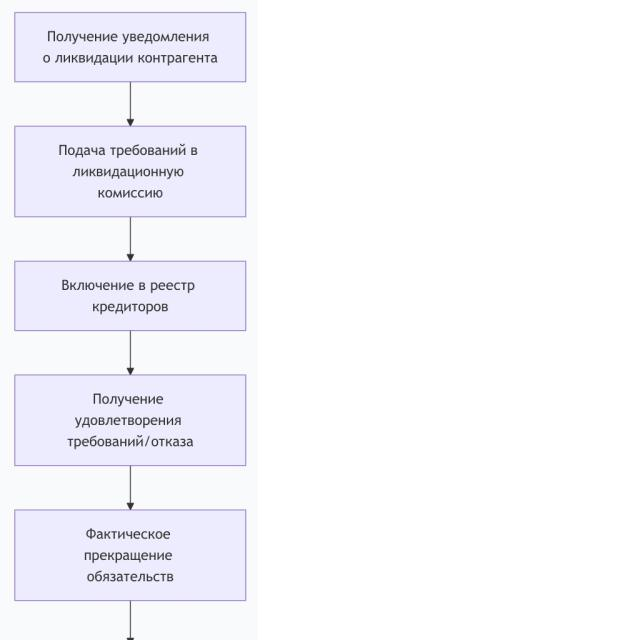arrow: (120, 220, 142, 260), (121, 82, 139, 127), (124, 462, 138, 512), (122, 330, 136, 376)
